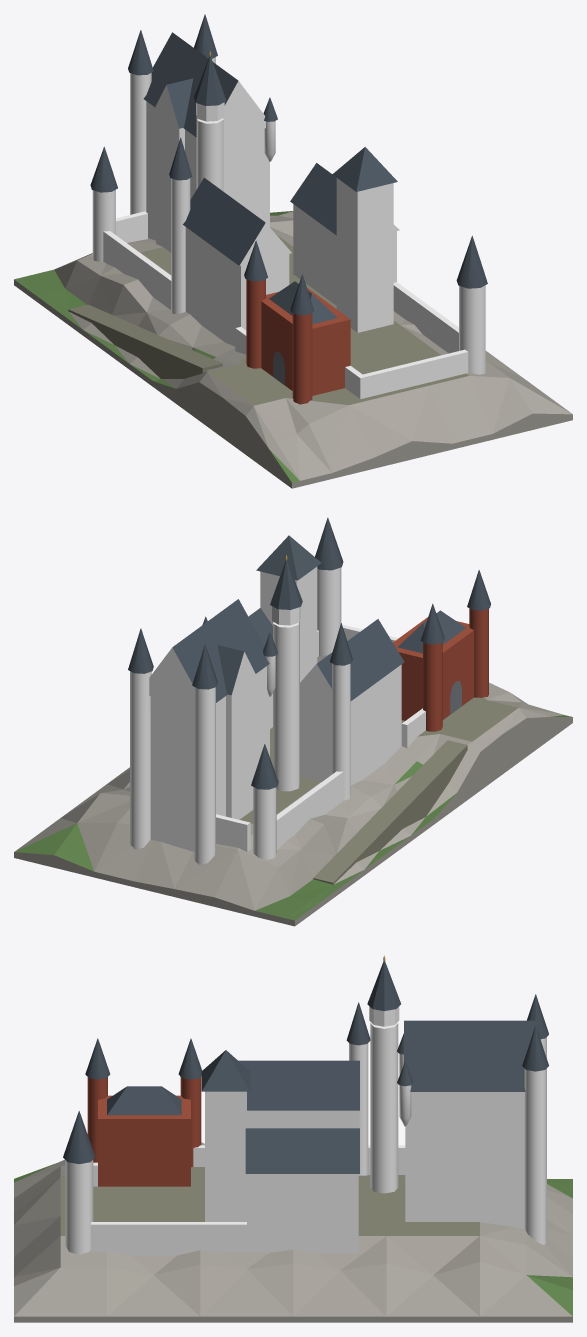
The model's file is far.fbx.
3 views of the same model, one above another, from view 1: azimuth 30°, elevation 25°; view 2: azimuth 150°, elevation 25°; view 3: azimuth 270°, elevation 25° (orthographic).
Parts seen in each view (by area): view 1: landmark-fairytale_castle/0/far; view 2: landmark-fairytale_castle/0/far; view 3: landmark-fairytale_castle/0/far.
Boxes of the visible parts, bbox=[...] form: landmark-fairytale_castle/0/far: bbox=[14, 14, 572, 488]; landmark-fairytale_castle/0/far: bbox=[14, 517, 572, 926]; landmark-fairytale_castle/0/far: bbox=[14, 955, 572, 1322].
Bounding box in the file's own units: 70 × 66.2 × 120.
